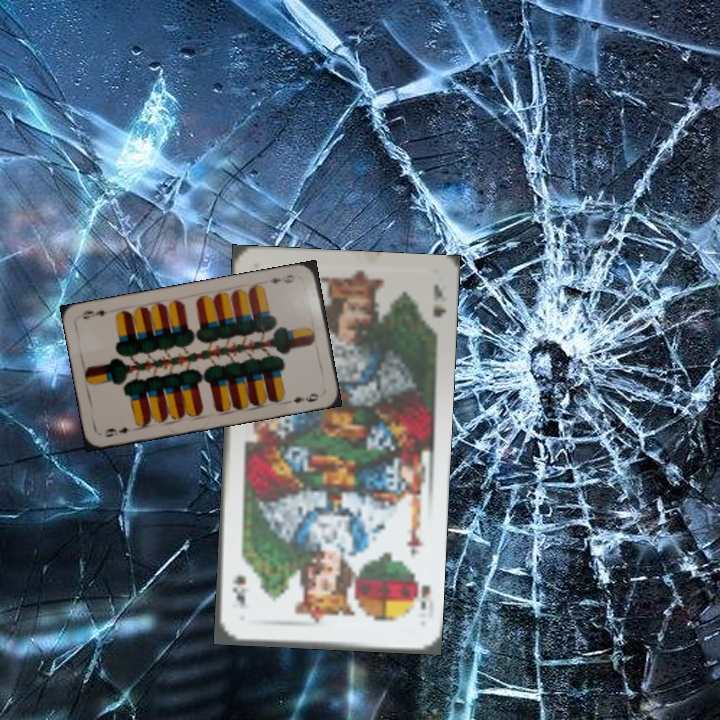E9: (100, 423, 133, 440), (265, 271, 297, 286)
SK: (408, 569, 434, 612)
